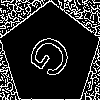G: (25, 30, 82, 88)
